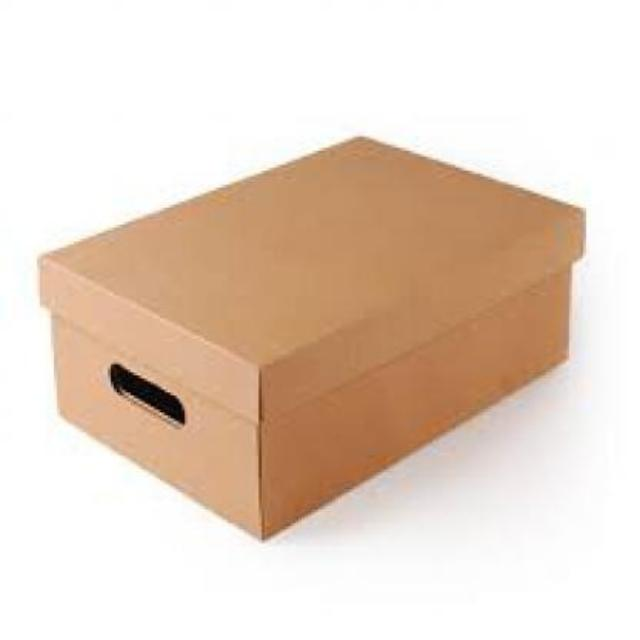cardboard_box: (38, 102, 586, 542)
